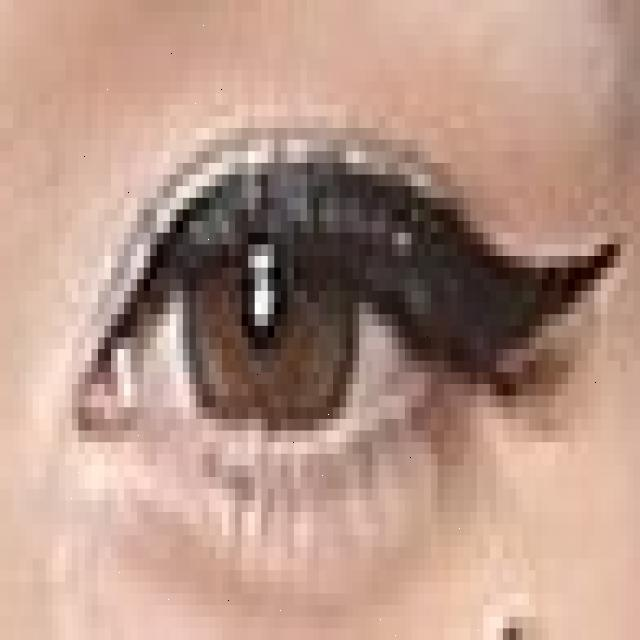Normal: (184, 186, 352, 441)
